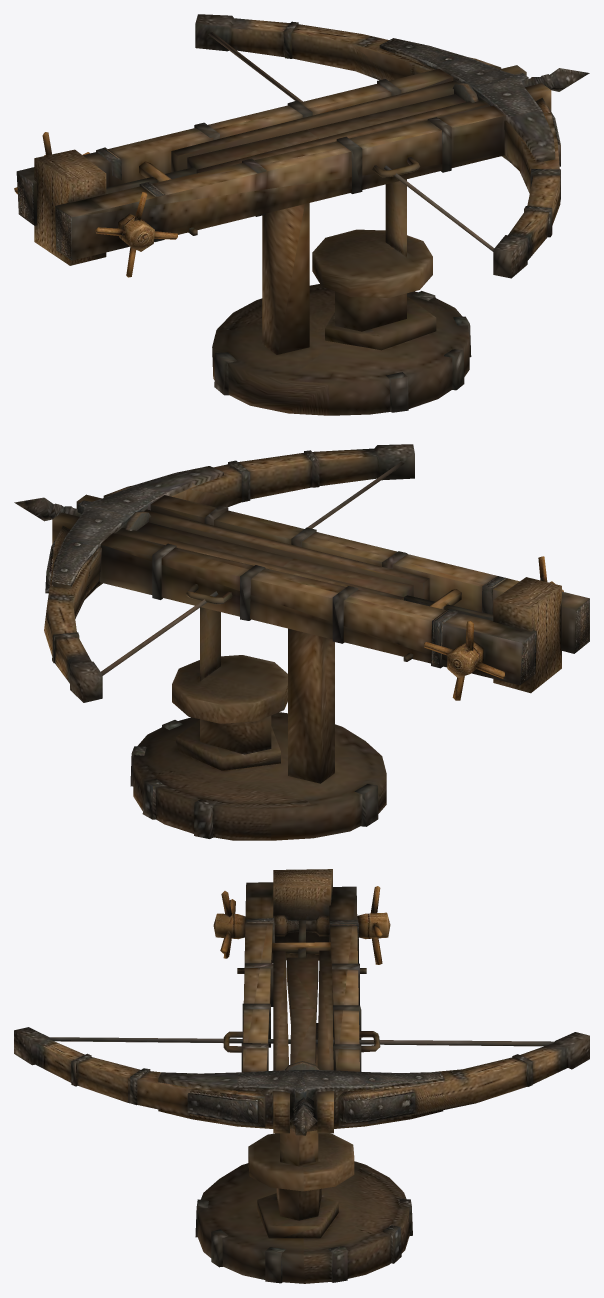
The model's file is tripo_convert_0ec65d12-d0a4-4ffd-8588-7f3e41cf7125.fbx.
3 views of the same model, one above another, from view 1: azimuth 30°, elevation 25°; view 2: azimuth 150°, elevation 25°; view 3: azimuth 270°, elevation 25° (orthographic). The views are drawn at different scales.
Parts seen in each view (by area): view 1: tripo_node_0ec65d12; view 2: tripo_node_0ec65d12; view 3: tripo_node_0ec65d12.
Boxes of the visible parts, x1,y1,x2,y2 form: tripo_node_0ec65d12: [14, 14, 589, 415]; tripo_node_0ec65d12: [14, 444, 589, 840]; tripo_node_0ec65d12: [14, 869, 589, 1283].
Size of the model in its own units: 0.9824 by 0.459 by 0.998.
